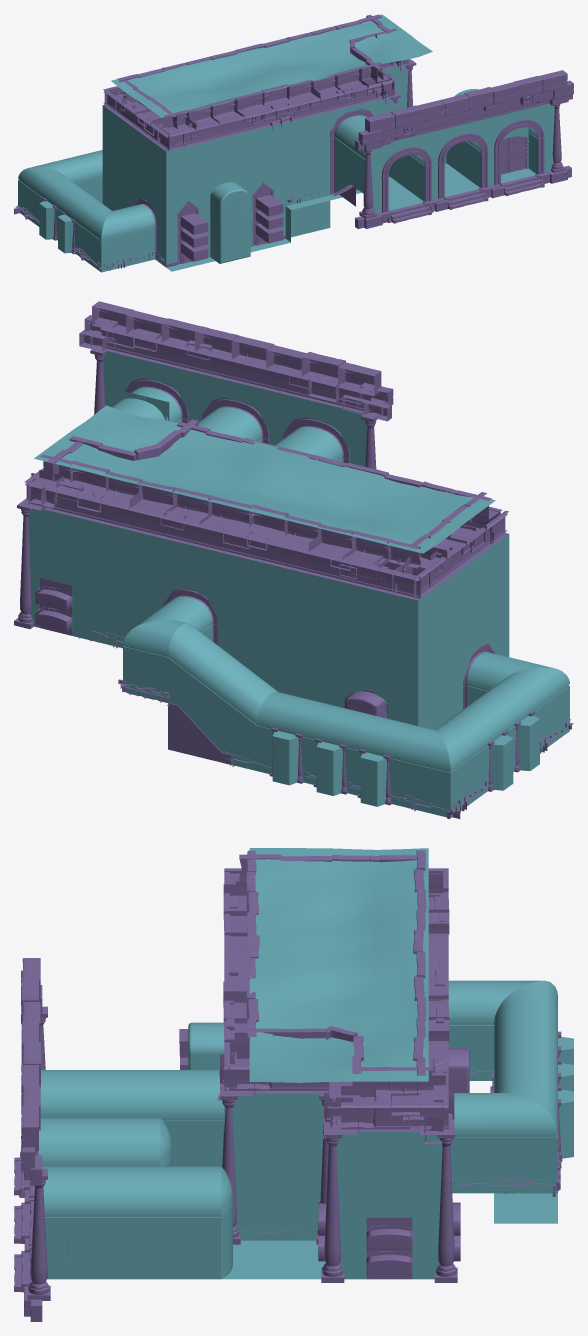
Rendered from cmc_dungeon_floorB1.fbx.
3 views of the same model, one above another, from view 1: azimuth 30°, elevation 25°; view 2: azimuth 150°, elevation 25°; view 3: azimuth 270°, elevation 25° (orthographic). The views are drawn at different scales.
Visible parts, largest first — view 1: B_wall_01, ceiling (×2), L_wall (×2), entryway_bricks_row_01 (×2), B_wall, brick_row_01, R_wall (×3), ceiling_03, coffins_01, coffins_02, wall_01 (×2), floor (×2) (+36 smaller); view 2: F_wall, ceiling (×4), L_wall, ceiling_05, brick_row_03, entryway_bricks_row_01, B_wall, L_wall_03, ceiling_03, wall_02 (×2), wall_01 (×2), ceiling_04 (+37 smaller); view 3: ceiling (×4), R_wall_02 (×2), R_wall (×2), R_wall_01, brick_row_03, ceiling_05, entryway_bricks_row_01 (×2), brick_row_01, brick_row_04, wall_02, floor_01, ceiling_07 (+23 smaller).
Part boxes in pixels (x1,y1,x2,y2): B_wall_01: (166, 98, 396, 264); ceiling (×2): (111, 14, 432, 166); L_wall (×2): (102, 105, 365, 267); entryway_bricks_row_01 (×2): (355, 70, 573, 228); B_wall: (370, 103, 554, 213); brick_row_01: (163, 62, 382, 135); R_wall (×3): (388, 134, 537, 201); ceiling_03: (36, 173, 108, 227); coffins_01: (252, 182, 283, 246); coffins_02: (177, 201, 208, 264); wall_01 (×2): (18, 180, 132, 272); floor (×2): (388, 163, 479, 210); F_wall: (28, 509, 418, 725); ceiling (×4): (34, 387, 495, 553); L_wall: (418, 534, 509, 729); ceiling_05: (168, 623, 424, 762); brick_row_03: (31, 454, 420, 569); entryway_bricks_row_01: (79, 301, 393, 421); B_wall: (103, 351, 367, 466); L_wall_03: (168, 658, 405, 807); ceiling_03: (438, 676, 543, 753); wall_02 (×2): (405, 686, 569, 818); wall_01 (×2): (123, 646, 476, 817); ceiling_04: (405, 725, 476, 773); ceiling (×4): (39, 848, 428, 1217); R_wall_02 (×2): (336, 1025, 493, 1279); R_wall (×2): (45, 1121, 224, 1279); R_wall_01: (224, 1093, 323, 1240); brick_row_03: (413, 850, 449, 1099); ceiling_05: (494, 998, 557, 1106); entryway_bricks_row_01 (×2): (21, 958, 42, 1321); brick_row_01: (223, 850, 259, 1060); brick_row_04: (234, 1026, 433, 1105); wall_02: (494, 1137, 557, 1193); floor_01: (222, 1240, 325, 1279); ceiling_07: (494, 1083, 557, 1137).
Bounding box in the file's own units: 277 × 98.62 × 185.
